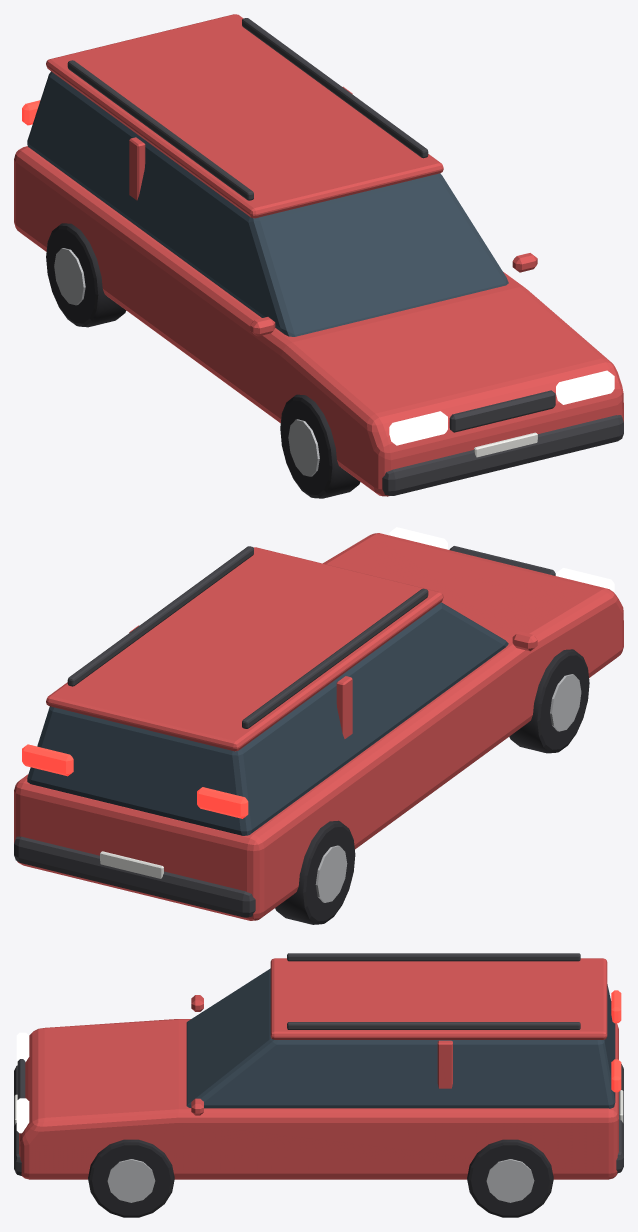
Rendered from kombi.glb.
The picture shows the model from 3 angles, top to bottom: view 1: azimuth 30°, elevation 25°; view 2: azimuth 150°, elevation 25°; view 3: azimuth 270°, elevation 25°; orthographic projection. The views are drawn at different scales.
Parts seen in each view (by area): view 1: Body.004, Cabin.002, Roof.002, BumperF.002, Tyre0L.002, Tyre1L.002, Rail-1, Rail1, Grille.002, HL1.002, HL-1.002, Rim0L.002 (+3 smaller); view 2: Body.004, Roof.002, Cabin.002, BumperR.002, Tyre0L.002, Tyre1L.002, Rail1, Rail-1, Rim0L.002, Rim1L.002, TL-1.002, TL1.002 (+5 smaller); view 3: Body.004, Cabin.002, Roof.002, Tyre0R.002, Tyre1R.002, Rail-1, Rail1, Rim1R.002, Rim0R.002, PillarB1.002, BumperR.002, HL1.002 (+2 smaller).
Part boxes in pixels (x1,y1,x2,y2): Body.004: [14, 146, 623, 496]; Cabin.002: [27, 71, 508, 336]; Roof.002: [46, 14, 443, 218]; BumperF.002: [382, 415, 623, 495]; Tyre0L.002: [280, 394, 360, 498]; Tyre1L.002: [46, 223, 126, 327]; Rail-1: [67, 60, 253, 200]; Rail1: [242, 18, 428, 158]; Grille.002: [449, 390, 555, 432]; HL1.002: [556, 370, 614, 404]; HL-1.002: [389, 411, 447, 445]; Rim0L.002: [288, 419, 319, 476]; Body.004: [14, 533, 623, 920]; Roof.002: [46, 547, 443, 751]; Cabin.002: [27, 602, 508, 835]; BumperR.002: [14, 836, 255, 917]; Tyre0L.002: [509, 649, 589, 753]; Tyre1L.002: [275, 820, 355, 924]; Rail1: [67, 546, 253, 686]; Rail-1: [242, 588, 428, 728]; Rim0L.002: [550, 674, 581, 731]; Rim1L.002: [315, 845, 347, 902]; TL-1.002: [197, 787, 248, 818]; TL1.002: [22, 744, 73, 776]; Body.004: [19, 1019, 618, 1179]; Cabin.002: [186, 968, 615, 1108]; Roof.002: [270, 958, 607, 1039]; Tyre0R.002: [88, 1139, 174, 1217]; Tyre1R.002: [467, 1139, 553, 1217]; Rail-1: [287, 953, 580, 961]; Rail1: [287, 1022, 580, 1029]; Rim1R.002: [486, 1159, 534, 1202]; Rim0R.002: [107, 1159, 155, 1202]; PillarB1.002: [437, 1040, 452, 1088]; BumperR.002: [616, 1064, 623, 1173]; HL1.002: [16, 1098, 29, 1133].
Bounding box in the file's own units: 2.08 × 1.55 × 4.78.
